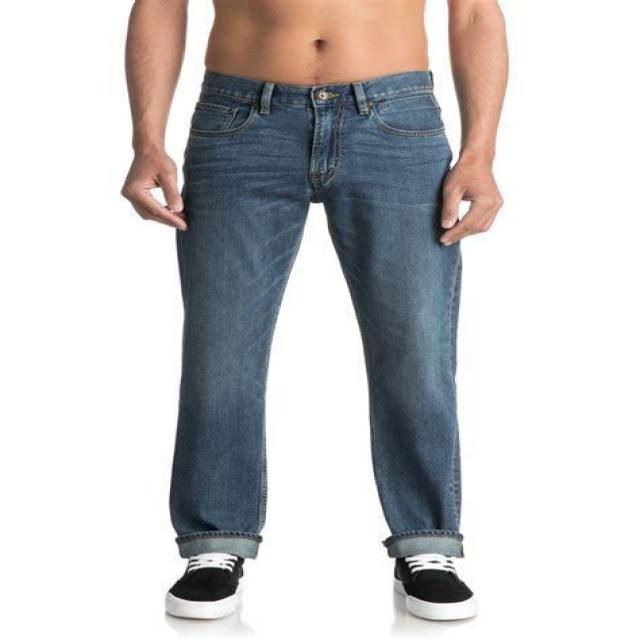pants: (165, 67, 467, 565)
